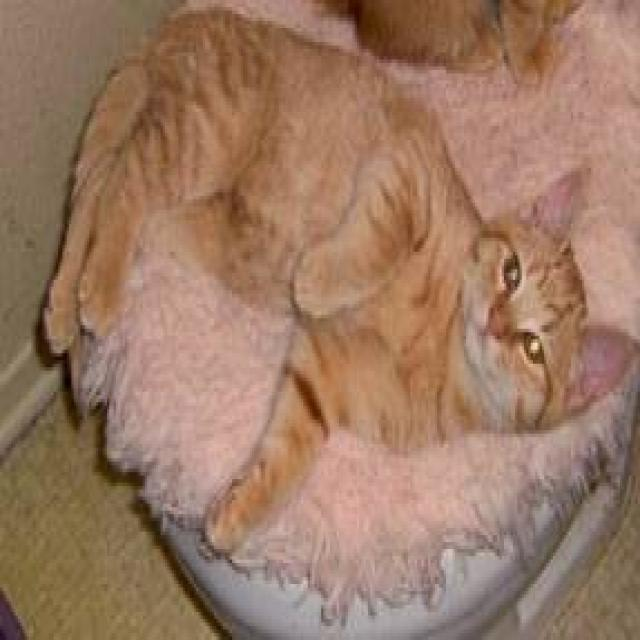cat: (38, 0, 638, 612)
